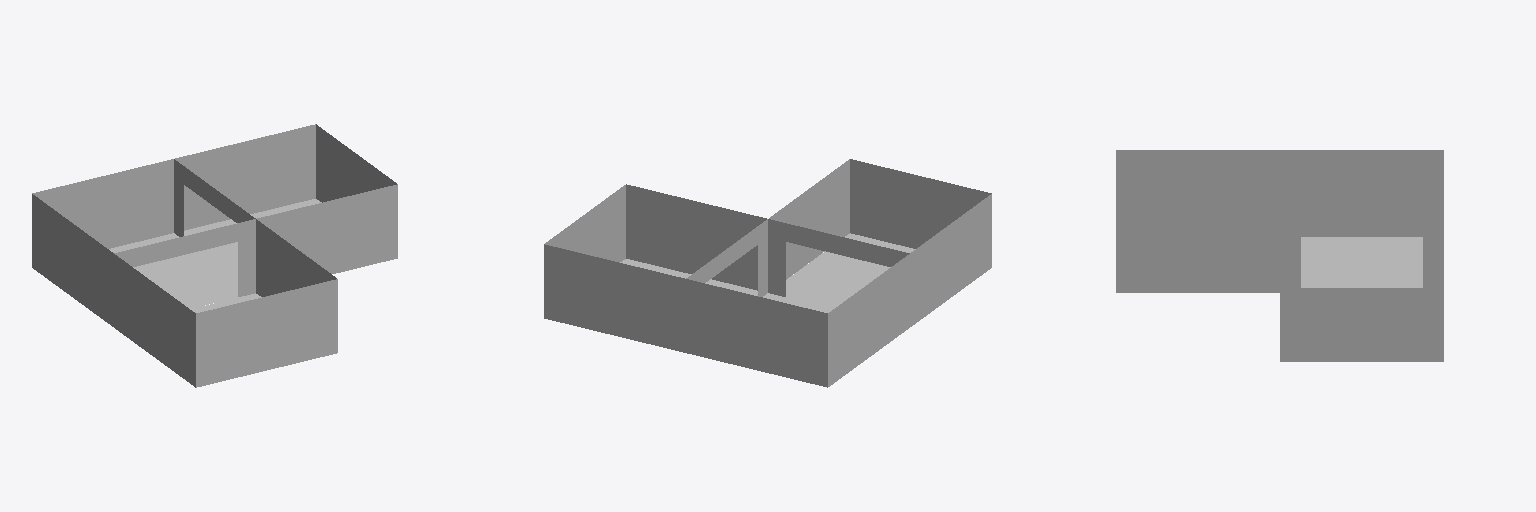
The picture shows the model from 3 angles: view 1: azimuth 30°, elevation 25°; view 2: azimuth 150°, elevation 25°; view 3: azimuth 270°, elevation 25°; orthographic projection.
Parts seen in each view (by area): view 1: Cube.001_Mesh, Cube.003_Mesh, Cube.002_Mesh, Portal.002_Mesh, Portal.001_Mesh; view 2: Cube.003_Mesh, Cube.001_Mesh, Cube.002_Mesh, Portal.002_Mesh, Portal.001_Mesh; view 3: Cube.003_Mesh, Cube.002_Mesh, Cube.001_Mesh, Portal.001_Mesh.
Boxes of the visible parts, x1,y1,x2,y2 form: Cube.001_Mesh: [114, 219, 337, 387]; Cube.003_Mesh: [32, 159, 255, 326]; Cube.002_Mesh: [174, 124, 397, 279]; Portal.002_Mesh: [276, 207, 379, 273]; Portal.001_Mesh: [266, 245, 318, 295]; Cube.003_Mesh: [686, 219, 909, 387]; Cube.001_Mesh: [769, 159, 991, 326]; Cube.002_Mesh: [544, 184, 766, 352]; Portal.002_Mesh: [644, 207, 749, 288]; Portal.001_Mesh: [786, 185, 839, 279]; Cube.003_Mesh: [1280, 150, 1443, 287]; Cube.002_Mesh: [1280, 219, 1443, 361]; Cube.001_Mesh: [1116, 150, 1279, 292]; Portal.001_Mesh: [1137, 237, 1258, 292].
Size of the model in its own units: 40 by 10.01 by 40.